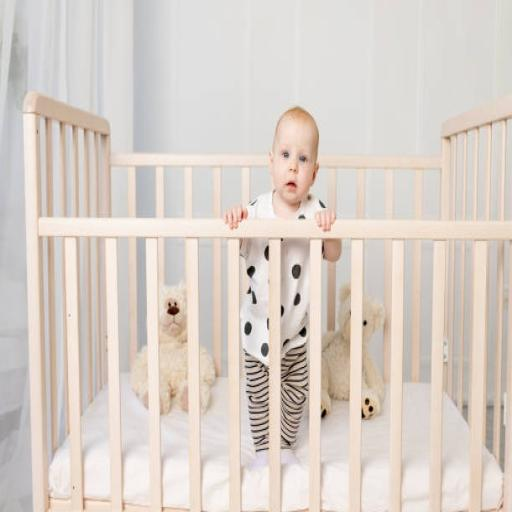baby: (241, 239, 268, 467)
crib: (24, 94, 511, 511)
